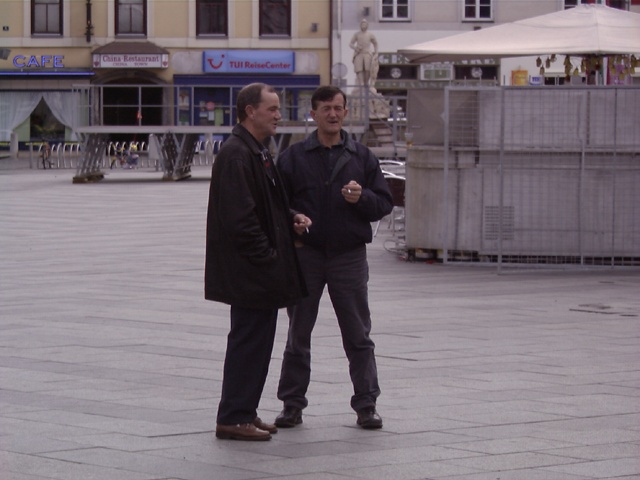person: (276, 84, 388, 429), (205, 81, 293, 441)
